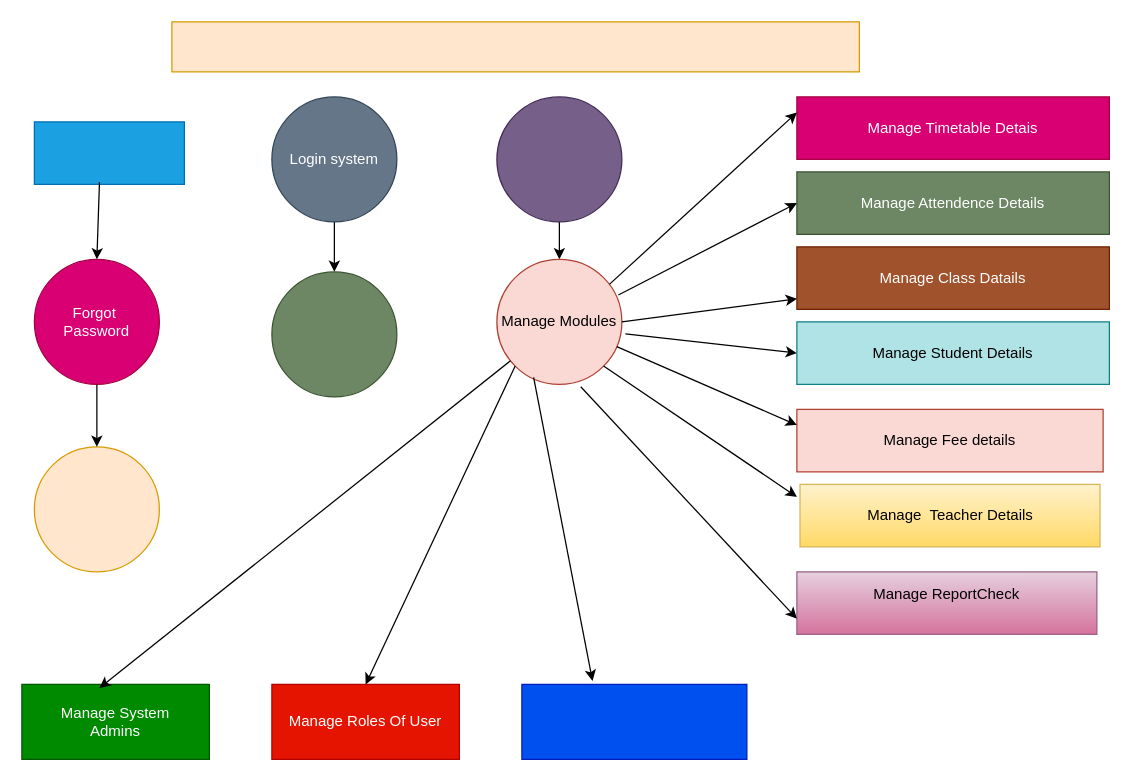
Some shapes in this 1131 by 781 pixel diagram are drawn without their labels. The centre of each missing label's shape, as x and y in pixels:
"Admin" belongs at (x=108, y=152).
"Check Credentials" belongs at (x=334, y=334).
"Check roles of access" belongs at (x=559, y=159).
"Manage User Permission" belongs at (x=634, y=721).
"Send Email To User" belongs at (x=96, y=509).
"Student Information System" belongs at (x=515, y=46).
